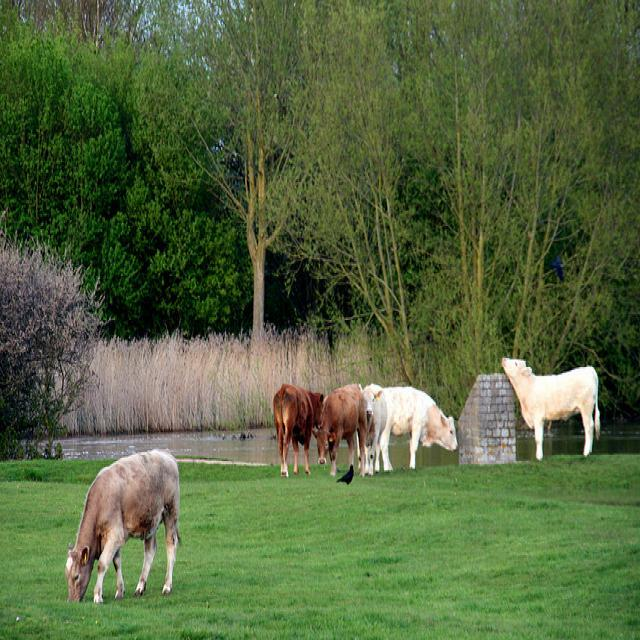cow: (65, 444, 180, 607), (498, 355, 602, 461), (370, 384, 458, 473), (311, 382, 366, 475), (272, 381, 323, 476)
